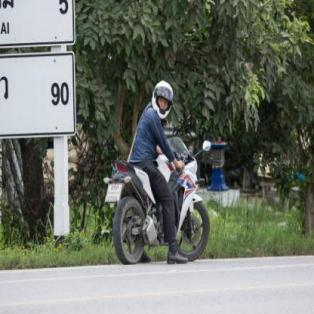Motocicleta: (106, 128, 217, 262)
